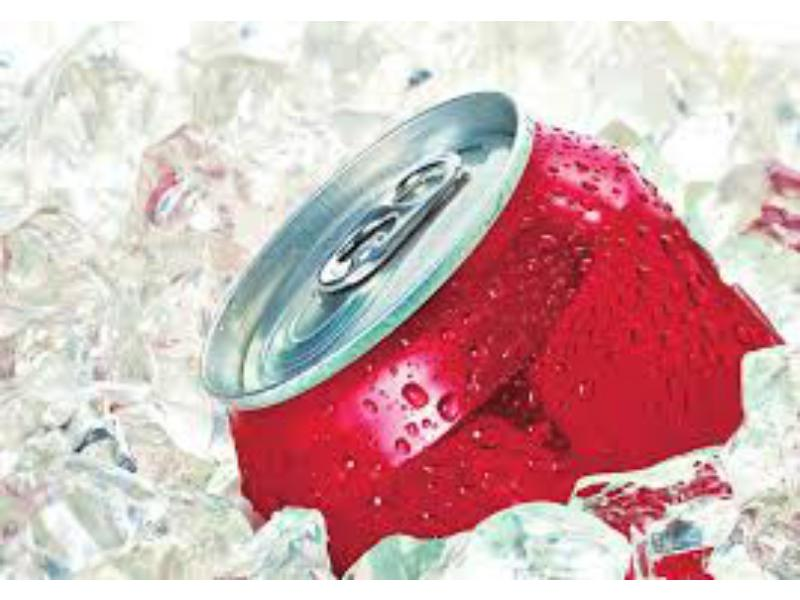can: (185, 77, 726, 525)
